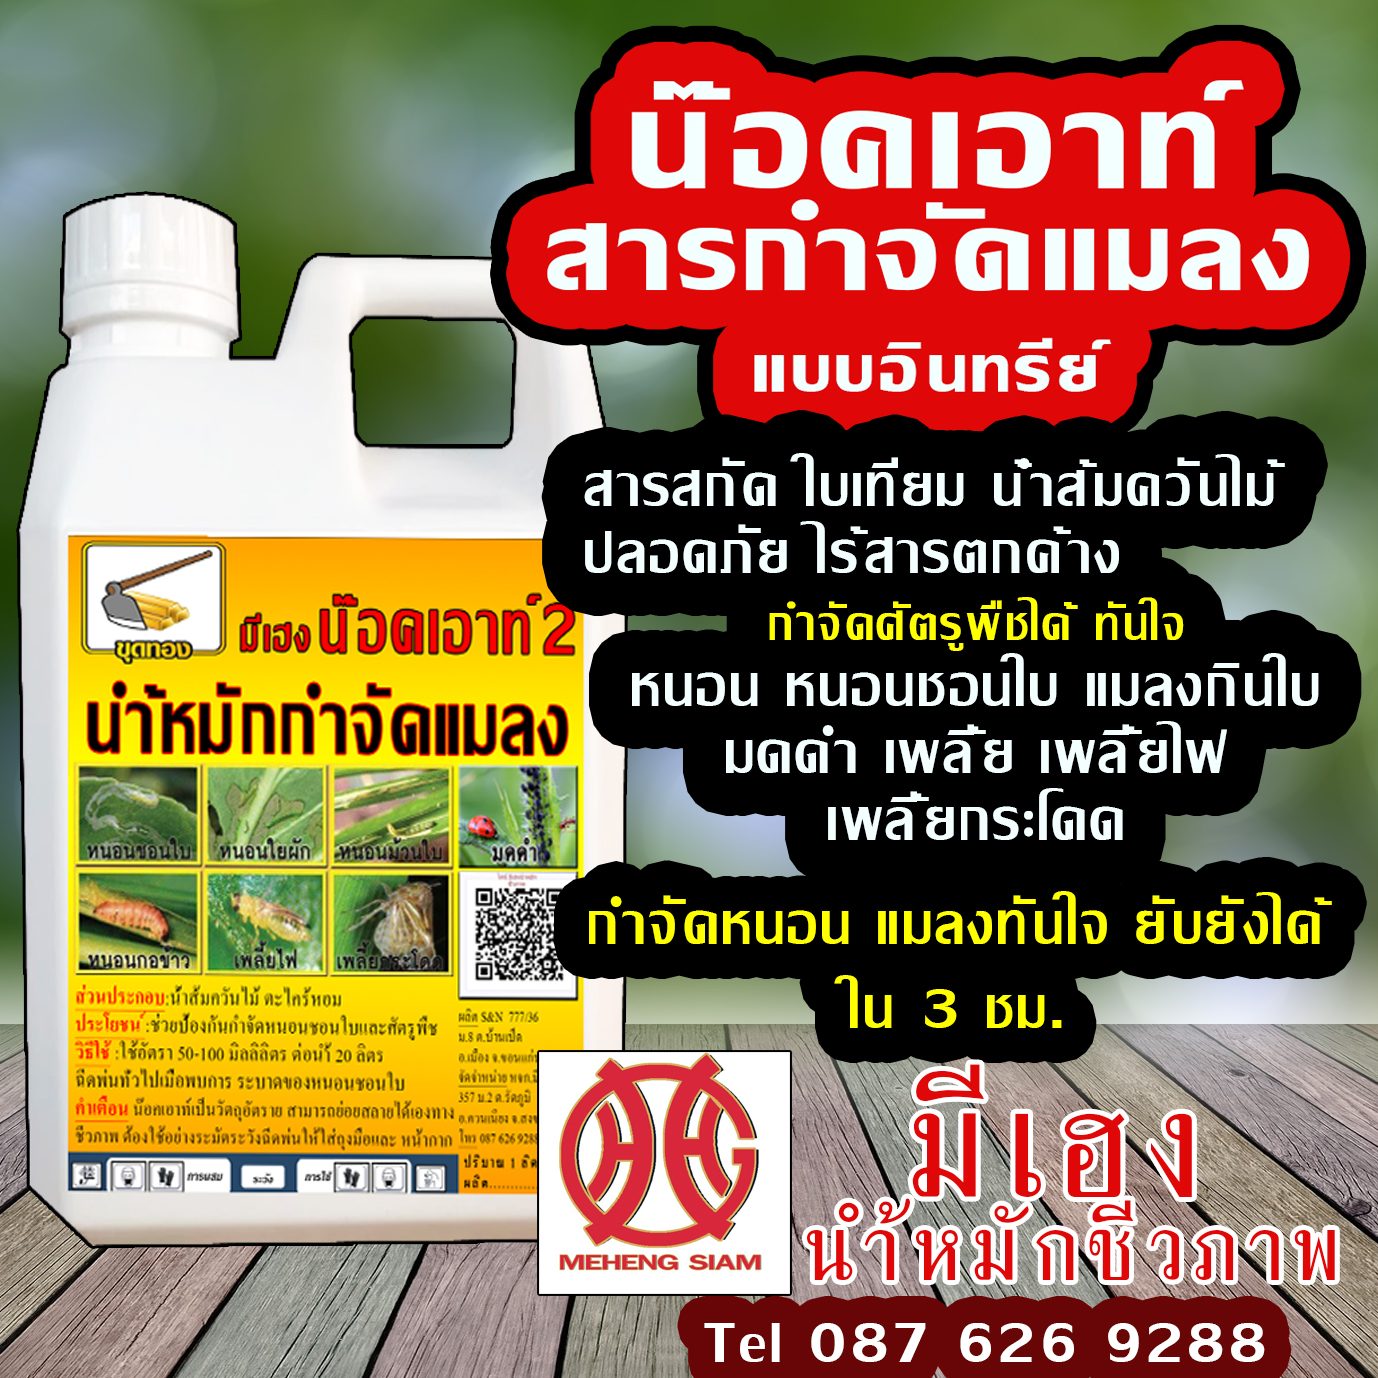Insecticide: (11, 184, 639, 1259)
